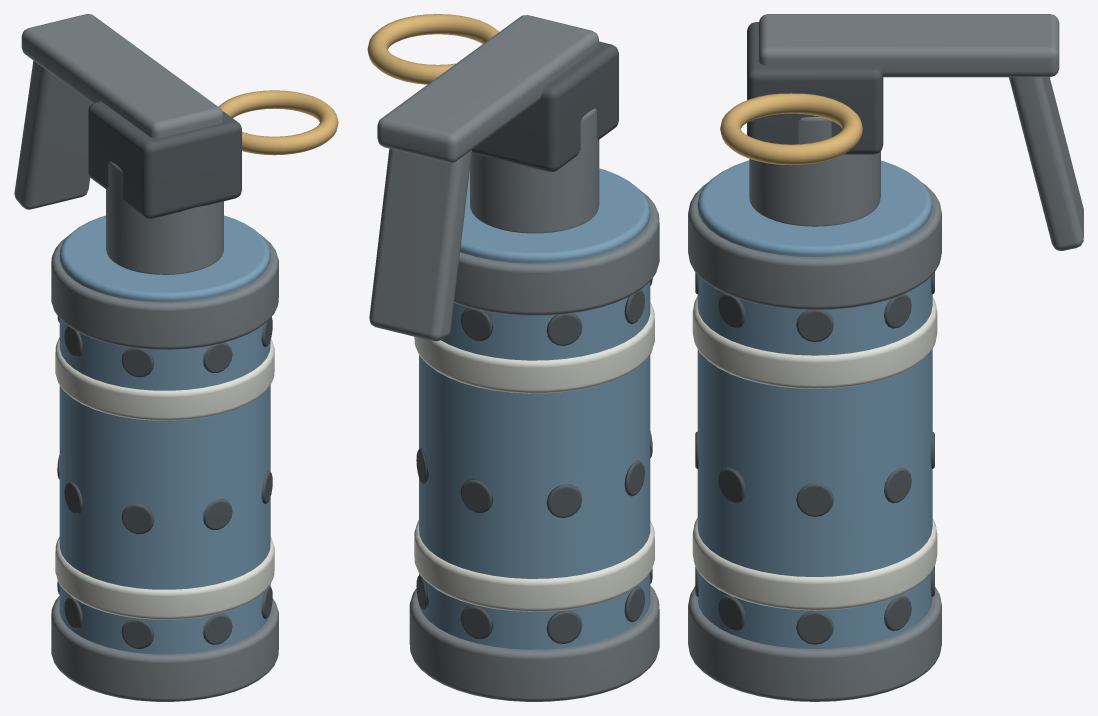
File: flash.glb
3 renders of one model, left to right at view 1: azimuth 30°, elevation 25°; view 2: azimuth 150°, elevation 25°; view 3: azimuth 270°, elevation 25°, orthographic. The views are drawn at different scales.
Parts seen in each view (by area): view 1: Blue, Steel, Dark, White, Brass; view 2: Steel, Blue, Dark, White, Brass; view 3: Blue, Steel, White, Dark, Brass.
Part boxes in pixels (box(x1,y1,x2,y2)): Blue: box(59, 215, 270, 654); Steel: box(14, 14, 278, 701); Dark: box(57, 101, 272, 648); White: box(55, 337, 274, 619); Brass: box(218, 90, 338, 155); Steel: box(369, 15, 659, 701); Blue: box(419, 168, 650, 649); Dark: box(416, 41, 652, 643); White: box(414, 302, 654, 611); Brass: box(367, 14, 498, 84); Blue: box(697, 160, 932, 648); Steel: box(688, 14, 1083, 701); White: box(692, 296, 937, 610); Dark: box(695, 22, 934, 644); Brass: box(720, 93, 862, 165).
Size of the model in its own units: 0.0692 by 0.1455 by 0.0842.
